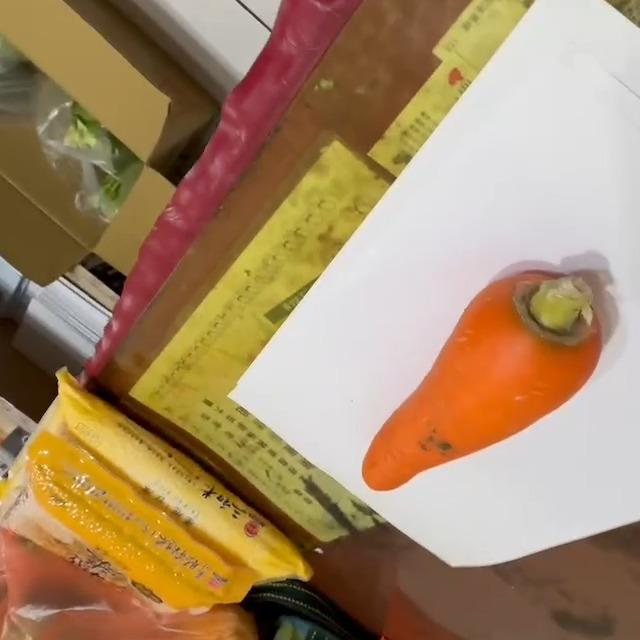carrot: (363, 269, 606, 497)
